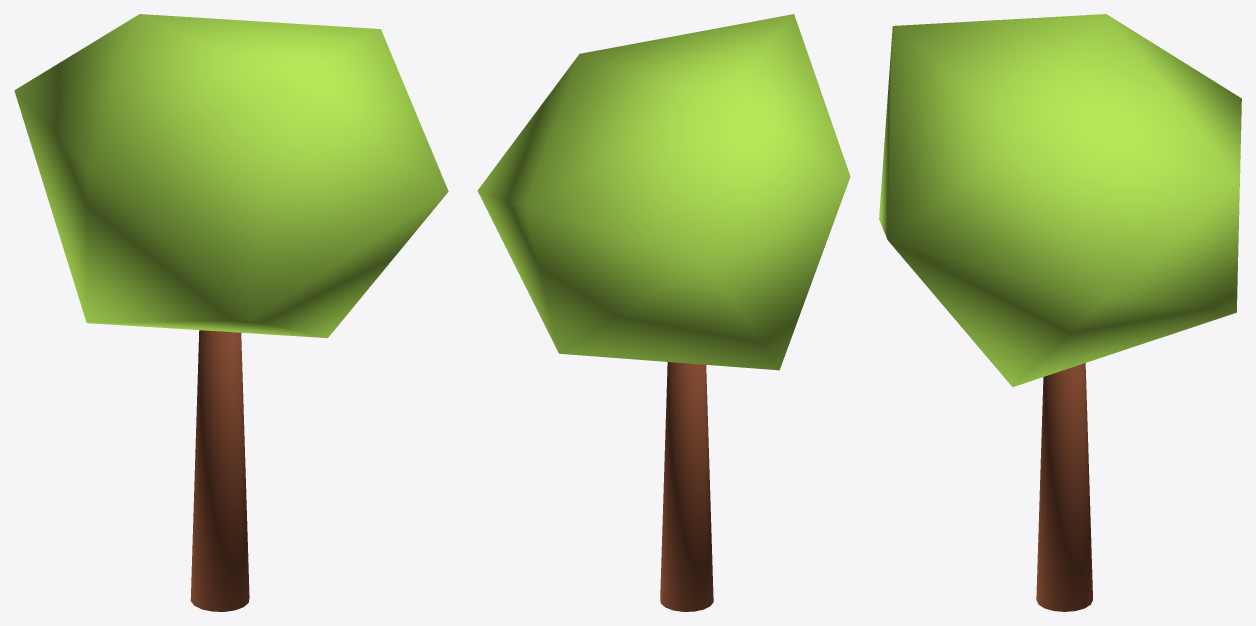
The model's file is SM_Tree1.fbx.
3 renders of one model, left to right at view 1: azimuth 30°, elevation 25°; view 2: azimuth 150°, elevation 25°; view 3: azimuth 270°, elevation 25°, orthographic. The views are drawn at different scales.
Visible parts, largest first — view 1: SM_Tree_1; view 2: SM_Tree_1; view 3: SM_Tree_1.
Part boxes in pixels (box(x1,y1,x2,y2)): SM_Tree_1: box(14, 14, 448, 611); SM_Tree_1: box(477, 14, 850, 611); SM_Tree_1: box(879, 14, 1241, 611).
Size of the model in its own units: 850 by 1310 by 768.
